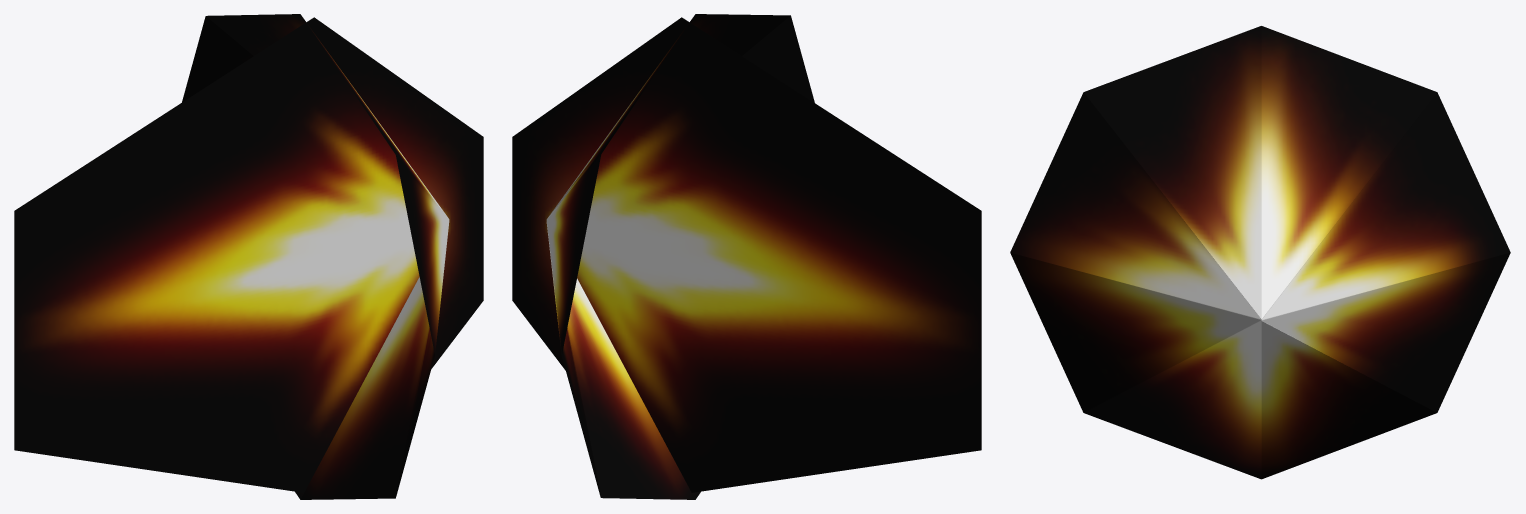
The model's file is MuzzleFlash.FBX.
3 renders of one model, left to right at view 1: azimuth 30°, elevation 25°; view 2: azimuth 150°, elevation 25°; view 3: azimuth 270°, elevation 25°, orthographic. The views are drawn at different scales.
Parts seen in each view (by area): view 1: MuzzleFlash; view 2: MuzzleFlash; view 3: MuzzleFlash.
Boxes of the visible parts, box(x1,y1,x2,y2) form: MuzzleFlash: box(14, 14, 483, 499); MuzzleFlash: box(512, 14, 981, 499); MuzzleFlash: box(1010, 26, 1510, 479).
Size of the model in its own units: 11.4 by 11.41 by 11.3.
